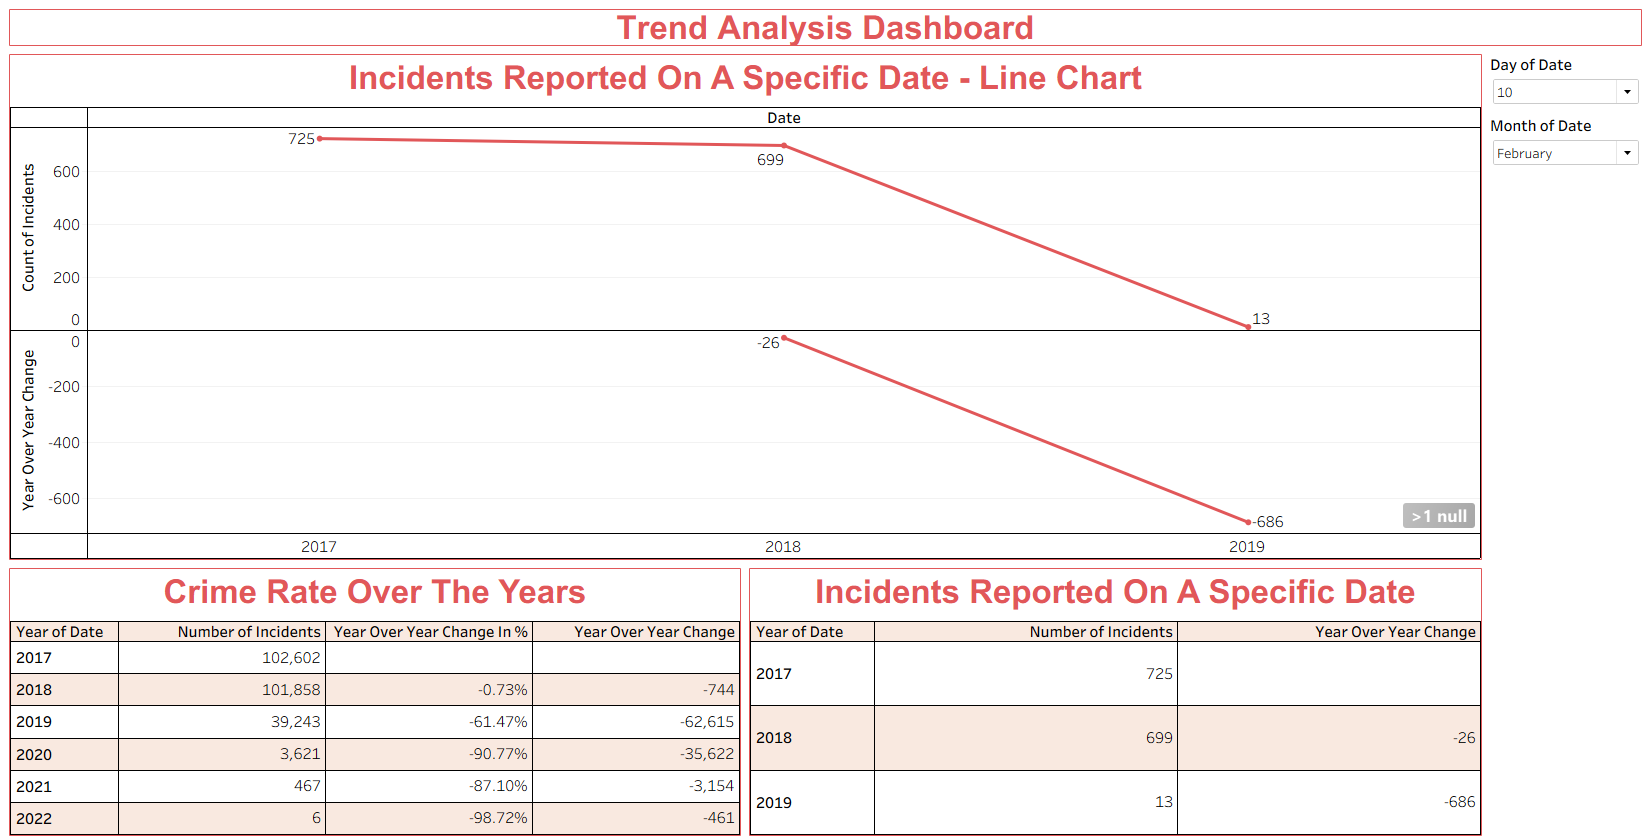

The page's visual inventory and layout, read from the dashboard file:
{"tool":"tableau","page":{"name":"Trend Analysis Dashboard","canvas":[1000,1000],"units":"permille","ordinal":3},"visuals":[{"type":"title","box":[4.8,9.4,990.3,52.9]},{"type":"worksheet","title":"Incidents Reported On A Specific Date - Line Chart","mark":"Automatic","rows":["Sheet1_F98B7416FBD24542A8F8B46EDAA7BA40"],"cols":["Date"],"box":[4.8,62.3,893.8,604]},{"type":"filter","title":"Incidents Reported On A Specific Date - Line Chart","param":"[federated.0i9ooec00x0po11buzn6f05qnz67].[dy:Date:ok]","box":[898.6,62.3,96.6,71.7]},{"type":"filter","title":"Incidents Reported On A Specific Date - Line Chart","param":"[federated.0i9ooec00x0po11buzn6f05qnz67].[mn:Date:ok]","box":[898.6,134,96.6,71.7]},{"type":"worksheet","title":"Crime Rate Over The Years","mark":"Automatic","rows":["Date"],"box":[4.8,666.3,446.9,324.3]},{"type":"worksheet","title":"Incidents Reported On A Specific Date","mark":"Automatic","rows":["Date"],"box":[451.7,666.3,446.9,324.3]}]}

Visuals, with their boxes on the dashboard's canvas, which has no fixed pixel size, in thousandths of its width and height (x1, y1, x2, y2). These are canvas units, not pixel positions in the 1646x840 screenshot, which may show the page scaled, cropped or inside an application window:
title: <region>5, 9, 995, 62</region>
"Incidents Reported On A Specific Date - Line Chart" worksheet: <region>5, 62, 899, 666</region>
"Incidents Reported On A Specific Date - Line Chart" filter: <region>899, 62, 995, 134</region>
"Incidents Reported On A Specific Date - Line Chart" filter: <region>899, 134, 995, 206</region>
"Crime Rate Over The Years" worksheet: <region>5, 666, 452, 991</region>
"Incidents Reported On A Specific Date" worksheet: <region>452, 666, 899, 991</region>
